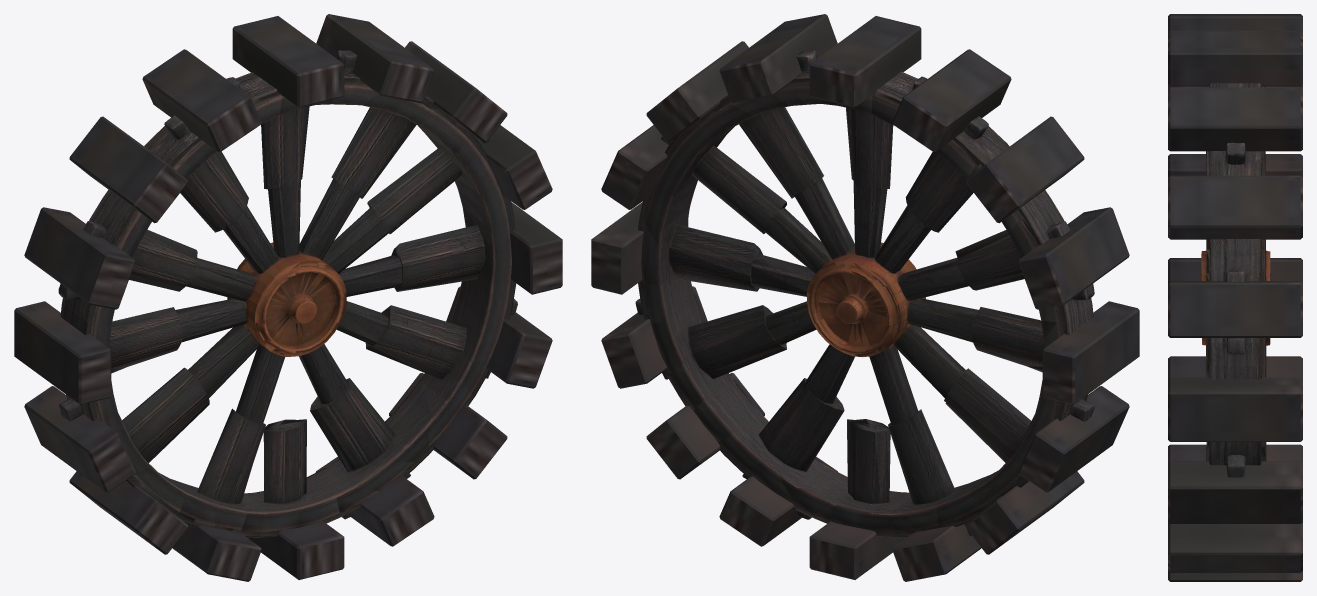
Rendered from su_carki.glb.
The picture shows the model from 3 angles, left to right: view 1: azimuth 30°, elevation 25°; view 2: azimuth 150°, elevation 25°; view 3: azimuth 270°, elevation 25°; orthographic projection.
Visible parts, largest first — view 1: Mesh_0, Broad wooden paddle 15, Broad wooden paddle 00, Broad wooden paddle 12, Broad wooden paddle 13, Broad wooden paddle 14, Broad wooden paddle 11, Broad wooden paddle 01, Broad wooden paddle 10, Broad wooden paddle 08, Broad wooden paddle 04, Broad wooden paddle 02 (+5 smaller); view 2: Mesh_0, Broad wooden paddle 15, Broad wooden paddle 12, Broad wooden paddle 00, Broad wooden paddle 13, Broad wooden paddle 14, Broad wooden paddle 11, Broad wooden paddle 01, Broad wooden paddle 10, Broad wooden paddle 08, Broad wooden paddle 02, Broad wooden paddle 04 (+5 smaller); view 3: Mesh_0, Broad wooden paddle 02, Broad wooden paddle 04, Broad wooden paddle 01, Broad wooden paddle 05, Broad wooden paddle 03, Broad wooden paddle 00, Broad wooden paddle 06, Broad wooden paddle 15, Broad wooden paddle 12, Broad wooden paddle 10, Broad wooden paddle 11 (+2 smaller).
Boxes of the visible parts, left/top/right/bottom form: Mesh_0: left=58, top=50, right=517, bottom=537; Broad wooden paddle 15: left=142, top=49, right=261, bottom=151; Broad wooden paddle 00: left=232, top=16, right=344, bottom=107; Broad wooden paddle 12: left=14, top=301, right=111, bottom=404; Broad wooden paddle 13: left=24, top=207, right=135, bottom=309; Broad wooden paddle 14: left=69, top=116, right=187, bottom=223; Broad wooden paddle 11: left=24, top=386, right=135, bottom=492; Broad wooden paddle 01: left=316, top=14, right=434, bottom=102; Broad wooden paddle 10: left=69, top=471, right=187, bottom=554; Broad wooden paddle 08: left=247, top=521, right=344, bottom=579; Broad wooden paddle 04: left=510, top=202, right=562, bottom=294; Broad wooden paddle 02: left=405, top=41, right=507, bottom=142; Mesh_0: left=635, top=50, right=1094, bottom=537; Broad wooden paddle 15: left=892, top=49, right=1011, bottom=151; Broad wooden paddle 12: left=1042, top=301, right=1139, bottom=404; Broad wooden paddle 00: left=809, top=16, right=921, bottom=107; Broad wooden paddle 13: left=1018, top=207, right=1129, bottom=309; Broad wooden paddle 14: left=966, top=116, right=1084, bottom=223; Broad wooden paddle 11: left=1018, top=386, right=1129, bottom=492; Broad wooden paddle 01: left=719, top=14, right=837, bottom=102; Broad wooden paddle 10: left=966, top=471, right=1084, bottom=554; Broad wooden paddle 08: left=809, top=521, right=906, bottom=579; Broad wooden paddle 02: left=646, top=41, right=748, bottom=142; Broad wooden paddle 04: left=591, top=202, right=688, bottom=294; Mesh_0: left=1201, top=83, right=1270, bottom=477; Broad wooden paddle 02: left=1168, top=175, right=1302, bottom=239; Broad wooden paddle 04: left=1168, top=377, right=1302, bottom=441; Broad wooden paddle 01: left=1168, top=87, right=1302, bottom=151; Broad wooden paddle 05: left=1168, top=461, right=1302, bottom=523; Broad wooden paddle 03: left=1168, top=281, right=1302, bottom=337; Broad wooden paddle 00: left=1168, top=30, right=1302, bottom=86; Broad wooden paddle 06: left=1168, top=522, right=1302, bottom=572; Broad wooden paddle 15: left=1168, top=14, right=1302, bottom=31; Broad wooden paddle 12: left=1168, top=154, right=1302, bottom=177; Broad wooden paddle 10: left=1168, top=356, right=1302, bottom=378; Broad wooden paddle 11: left=1168, top=258, right=1302, bottom=282.
Bounding box in the file's own units: 1.07 × 1.07 × 0.255.
1 material, 1 textured.
